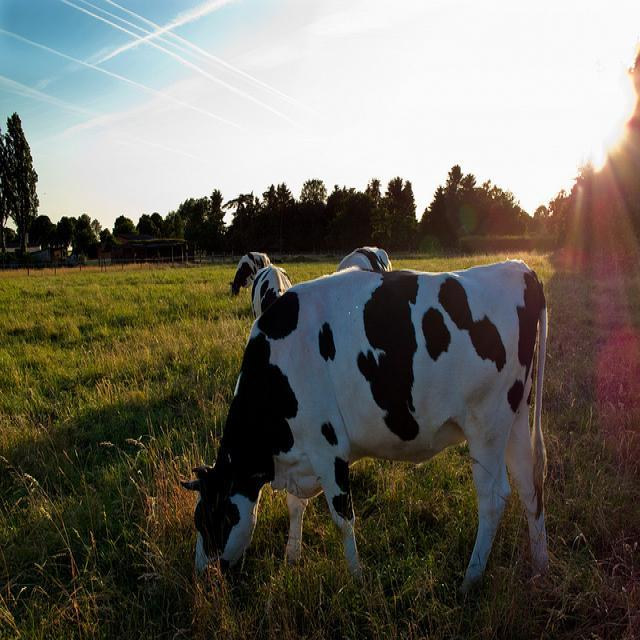cow: (177, 256, 546, 588), (251, 260, 289, 316), (227, 249, 269, 295), (333, 244, 393, 271)
